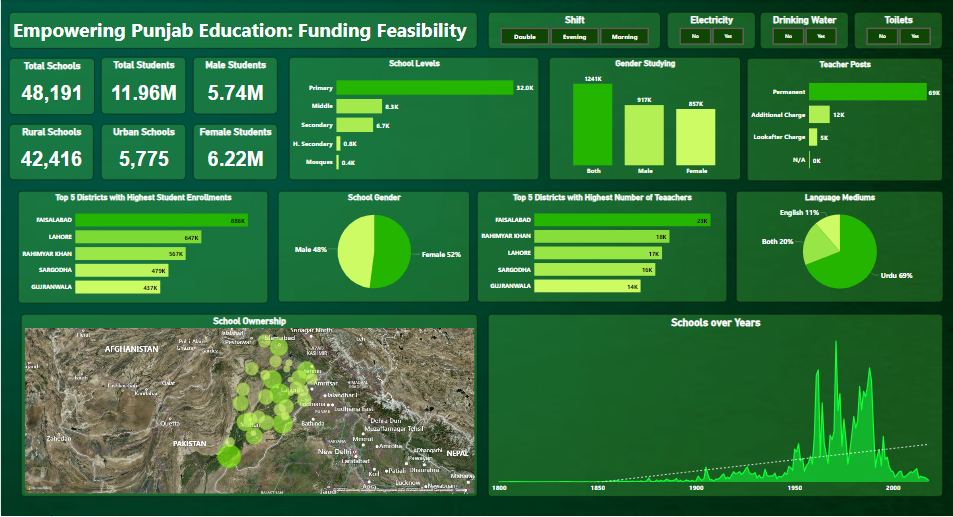

What the dashboard file says about the page in this screenshot:
{"tool":"powerbi","page":{"name":"Page 1","canvas":[2400,1300],"ordinal":0},"visuals":[{"type":"cardVisual","title":"Total Schools","fields":{"Data":["CountNonNull(Cleaned Data.School_Id)"]},"box":[20,145.7,215.7,142.9],"z":0},{"type":"textbox","box":[20,30,1180,92],"z":1000},{"type":"cardVisual","title":"Male Students","fields":{"Data":["Sum(Cleaned Data.Enrollment)"]},"box":[484.3,144.3,212.9,144.3],"z":2000},{"type":"cardVisual","title":"Rural Schools","fields":{"Data":["CountNonNull(Cleaned Data.School_Location)"]},"box":[20,312.9,212.9,141.4],"z":3000},{"type":"cardVisual","title":"Urban Schools","fields":{"Data":["CountNonNull(Cleaned Data.School_Id)"]},"box":[251.4,312.9,214.3,141.4],"z":4000},{"type":"clusteredBarChart","title":"Top 5 Districts with Highest Number of Teaachers","fields":{"Category":["Cleaned Data.District"],"Y":["Sum(Cleaned Data.Teachers)"]},"box":[1200,480,630,280],"z":5000},{"type":"clusteredBarChart","title":"Top 5 Districts with Highest Student Enrollments","fields":{"Category":["Cleaned Data.District"],"Y":["Sum(Cleaned Data.Enrollment)"]},"box":[43.3,480,630,283.3],"z":6000},{"type":"pieChart","title":"School Gender ","fields":{"Category":["Cleaned Data.School_Gender"],"Y":["CountNonNull(Cleaned Data.School_Id)"]},"box":[696.7,480,483.3,280],"z":7000},{"type":"columnChart","title":"Gender Studying ","fields":{"Category":["Cleaned Data.Gender_Studying"],"Y":["Sum(Cleaned Data.Enrollment)"]},"box":[1380,143.3,483.3,310],"z":8000},{"type":"clusteredBarChart","title":"School Levels","fields":{"Y":["CountNonNull(Cleaned Data.School_Id)"],"Category":["Cleaned Data.School_Level"]},"box":[725,143.3,630,310],"z":9000},{"type":"cardVisual","title":"Total Students","fields":{"Data":["Sum(Cleaned Data.Enrollment)"]},"box":[251.4,144.3,214.3,144.3],"z":10000},{"type":"cardVisual","title":"Female Students","fields":{"Data":["Sum(Cleaned Data.Enrollment)"]},"box":[484.3,312.9,212.9,141.4],"z":11000},{"type":"areaChart","title":"Schools over Years","fields":{"Category":["Cleaned Data.Est_Year"],"Y":["CountNonNull(Cleaned Data.School_Id)"]},"box":[1226,790,1146,460],"z":12000},{"type":"map","title":"School Ownership ","fields":{"Size":["Count(Cleaned Data.School_Id)"],"Category":["Cleaned Data.District"]},"box":[50,790,1150,460],"z":13000},{"type":"clusteredBarChart","title":"Teacher Posts","fields":{"Category":["Cleaned Data.Head_Type"],"Y":["Sum(Cleaned Data.Teachers)"]},"box":[1880,146.7,493.3,310],"z":14000},{"type":"pieChart","title":"Language Mediums","fields":{"Category":["Cleaned Data.Medium"],"Y":["CountNonNull(Cleaned Data.School_Id)"]},"box":[1851.7,480,521.7,280],"z":15000},{"type":"slicer","title":"Shift","fields":{"Values":["Cleaned Data.School_Shift"]},"box":[1226.2,30,435,92.5],"z":16000},{"type":"slicer","title":"Electricity ","fields":{"Values":["Cleaned Data.Electricity"]},"box":[1678.3,30,223.3,93.3],"z":17000},{"type":"slicer","title":"Drinking Water","fields":{"Values":["Cleaned Data.Drink_Water"]},"box":[1913.3,30,223.3,93.3],"z":18000},{"type":"slicer","title":"Toilets","fields":{"Values":["Cleaned Data.Toilets"]},"box":[2150,30,223.3,93.3],"z":19000}]}

Visuals, with their boxes in screenshot pixels (x1, y1, x2, y2), scaled from the page's 2400x1300 canvas onto the 953x517 screenshot:
"Total Schools" cardVisual: 8,58,94,115
textbox: 8,12,476,49
"Male Students" cardVisual: 192,57,277,115
"Rural Schools" cardVisual: 8,124,92,181
"Urban Schools" cardVisual: 100,124,185,181
"Top 5 Districts with Highest Number of Teaachers" clusteredBarChart: 476,191,727,302
"Top 5 Districts with Highest Student Enrollments" clusteredBarChart: 17,191,267,304
"School Gender " pieChart: 277,191,469,302
"Gender Studying " columnChart: 548,57,740,180
"School Levels" clusteredBarChart: 288,57,538,180
"Total Students" cardVisual: 100,57,185,115
"Female Students" cardVisual: 192,124,277,181
"Schools over Years" areaChart: 487,314,942,497
"School Ownership " map: 20,314,476,497
"Teacher Posts" clusteredBarChart: 747,58,942,182
"Language Mediums" pieChart: 735,191,942,302
"Shift" slicer: 487,12,660,49
"Electricity " slicer: 666,12,755,49
"Drinking Water" slicer: 760,12,848,49
"Toilets" slicer: 854,12,942,49
